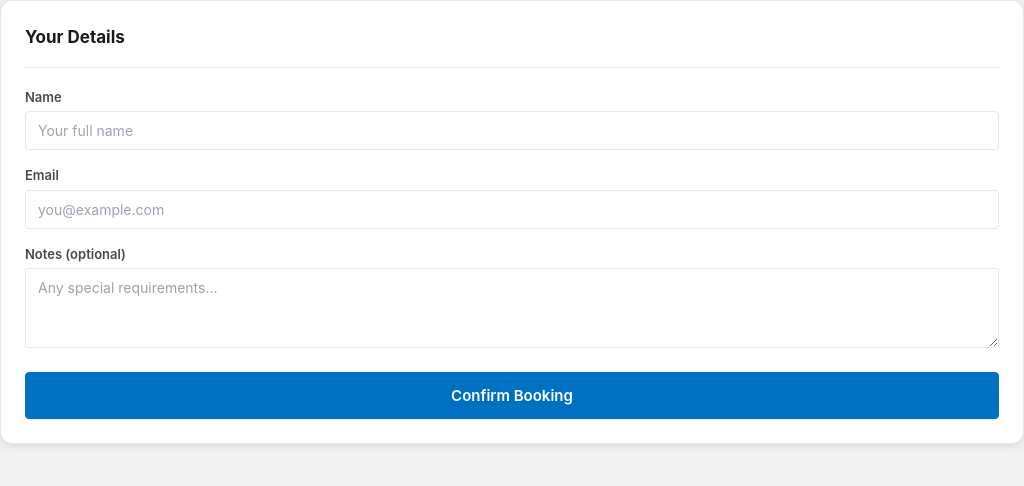
Test: CheckoutForm › shows "Email is required" when submitted without email
The width and height of the screenshot is (1024, 486).
Type "Alice" into the field with placeholder "Your full name" at (512, 130), box x1=25 y1=111 x2=999 y2=150
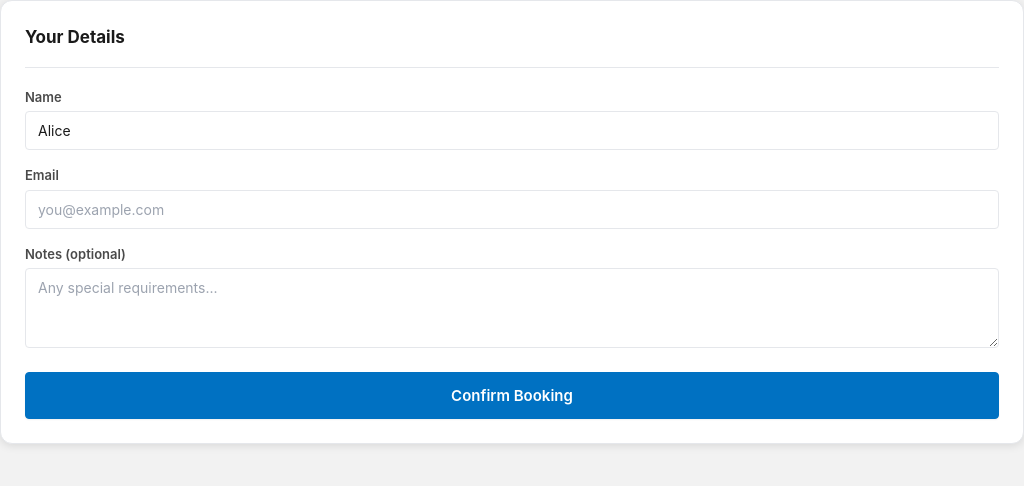
Click the button "Confirm Booking" at (512, 396), box x1=25 y1=372 x2=999 y2=419
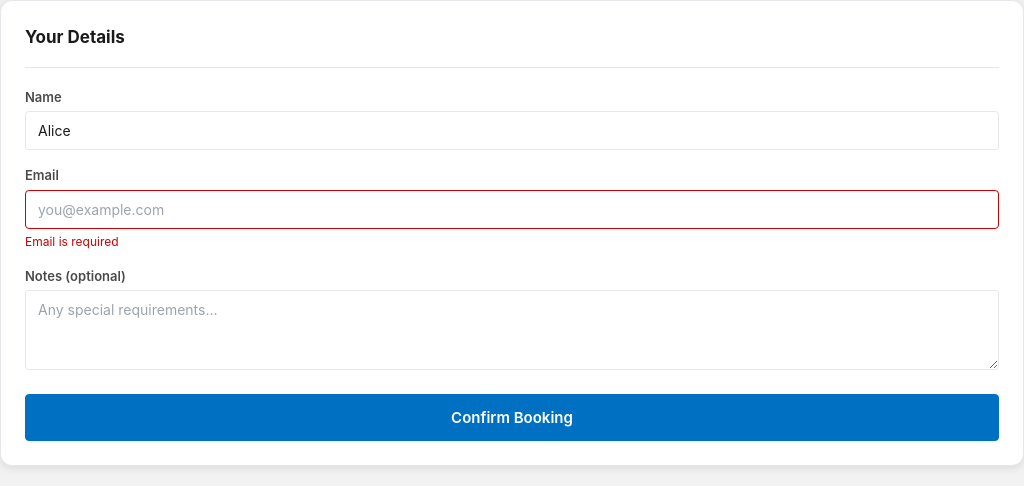
Check: the text "Email is required" is shown, box x1=25 y1=234 x2=119 y2=248
